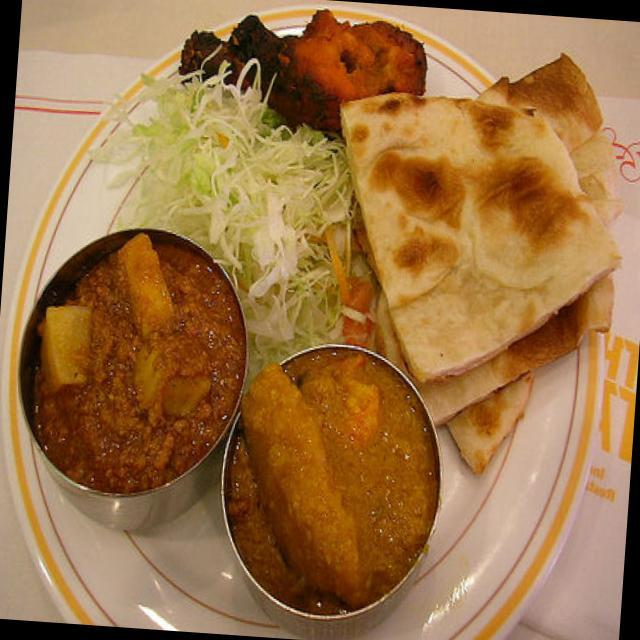Beef Curry: (62, 270, 220, 452)
